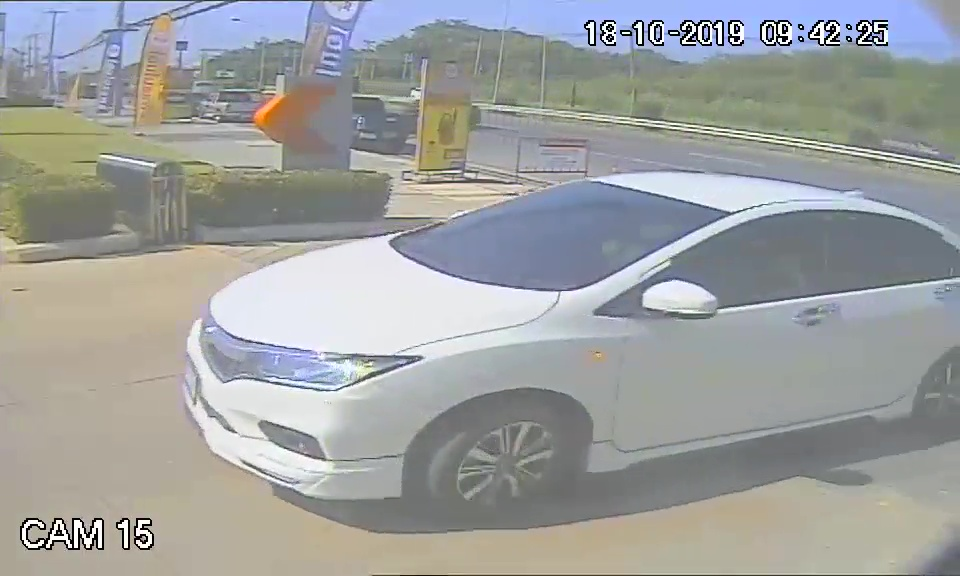sedan: (177, 167, 957, 508)
